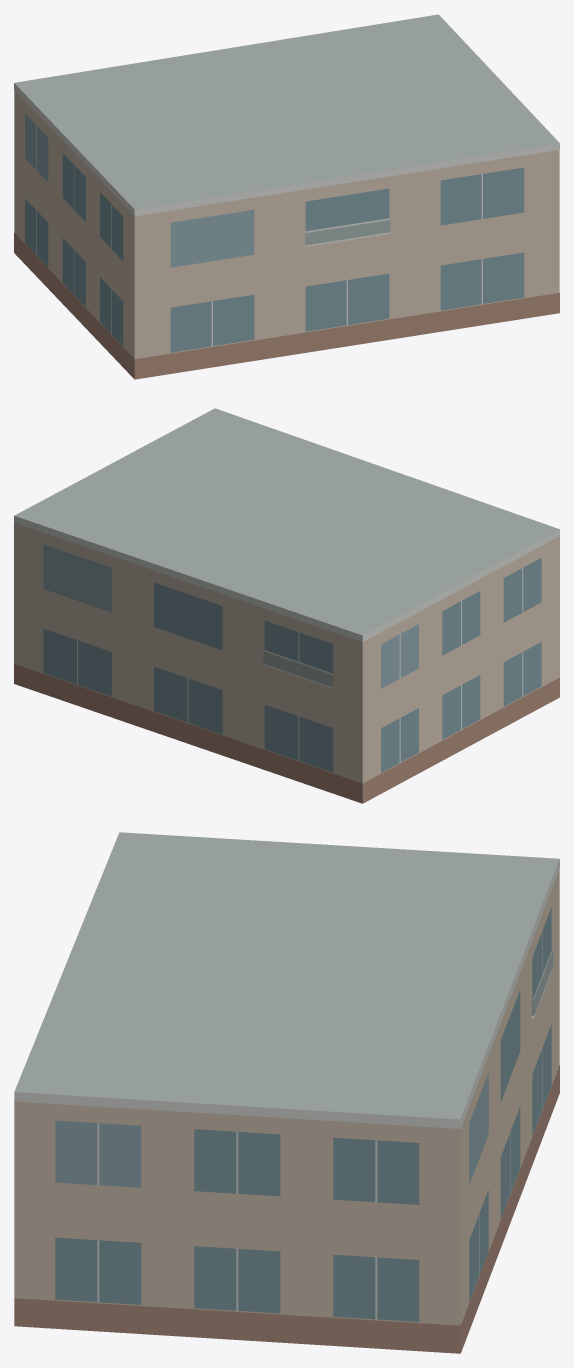
Rendered from survey-upis-32655248.glb.
3 views of the same model, one above another, from view 1: azimuth 30°, elevation 25°; view 2: azimuth 150°, elevation 25°; view 3: azimuth 270°, elevation 25° (orthographic). The views are drawn at different scales.
Parts seen in each view (by area): view 1: survey-upis-32655248.tmp; view 2: survey-upis-32655248.tmp; view 3: survey-upis-32655248.tmp.
Part boxes in pixels (x1=…): survey-upis-32655248.tmp: x1=14, y1=14, x2=559, y2=379; survey-upis-32655248.tmp: x1=14, y1=408, x2=559, y2=803; survey-upis-32655248.tmp: x1=14, y1=832, x2=559, y2=1353.
Bounding box in the file's own units: 16.07 × 6.1 × 12.9.
